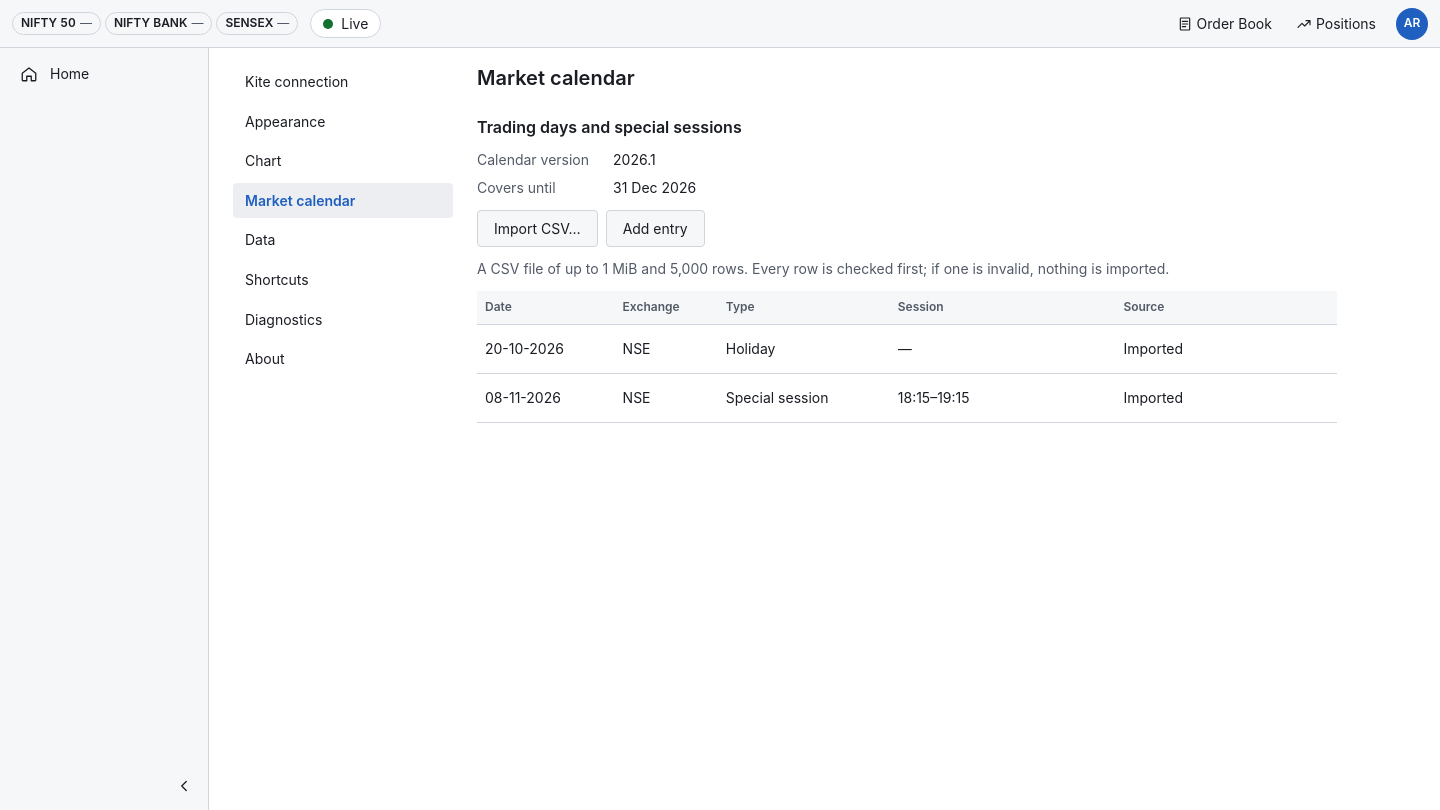
Test case: FR-DATA-001 Settings → Market calendar › AC4: a refused import is explained inline and as a toast; the table is unchanged
Expected: the row "20-10-2026 NSE Holiday — Imported" is shown, [477,325,1337,373]
Click the button "Import CSV…". click: coordinates (537, 228)
box: [477,210,598,247]
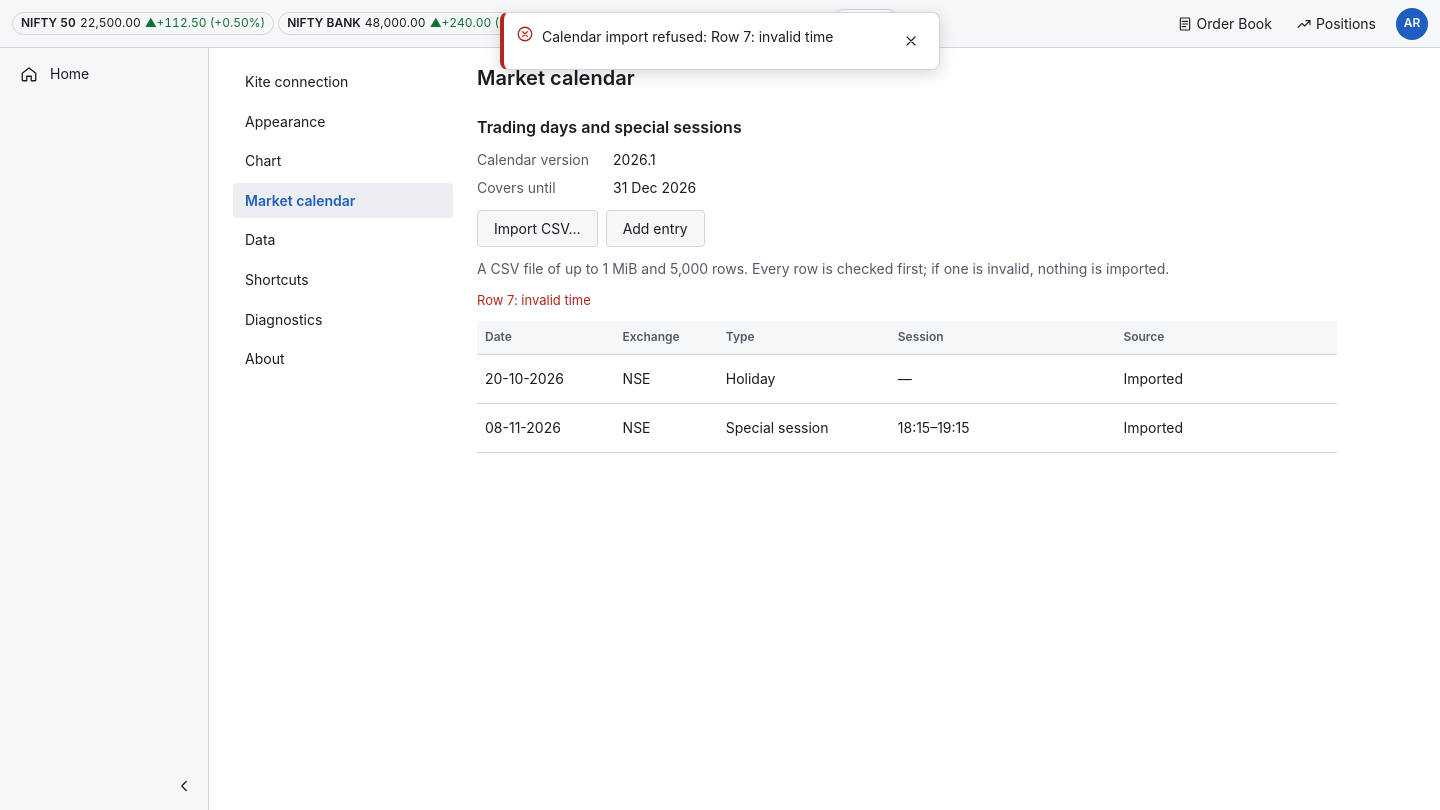
Expected: the number of rows "20-10-2026 NSE Holiday — Imported" is 2, [477,355,1337,403]; [477,403,1337,452]
Result: the text "Row 7: invalid time" is shown 2 times at [477,292,591,308]; [542,28,834,45]
